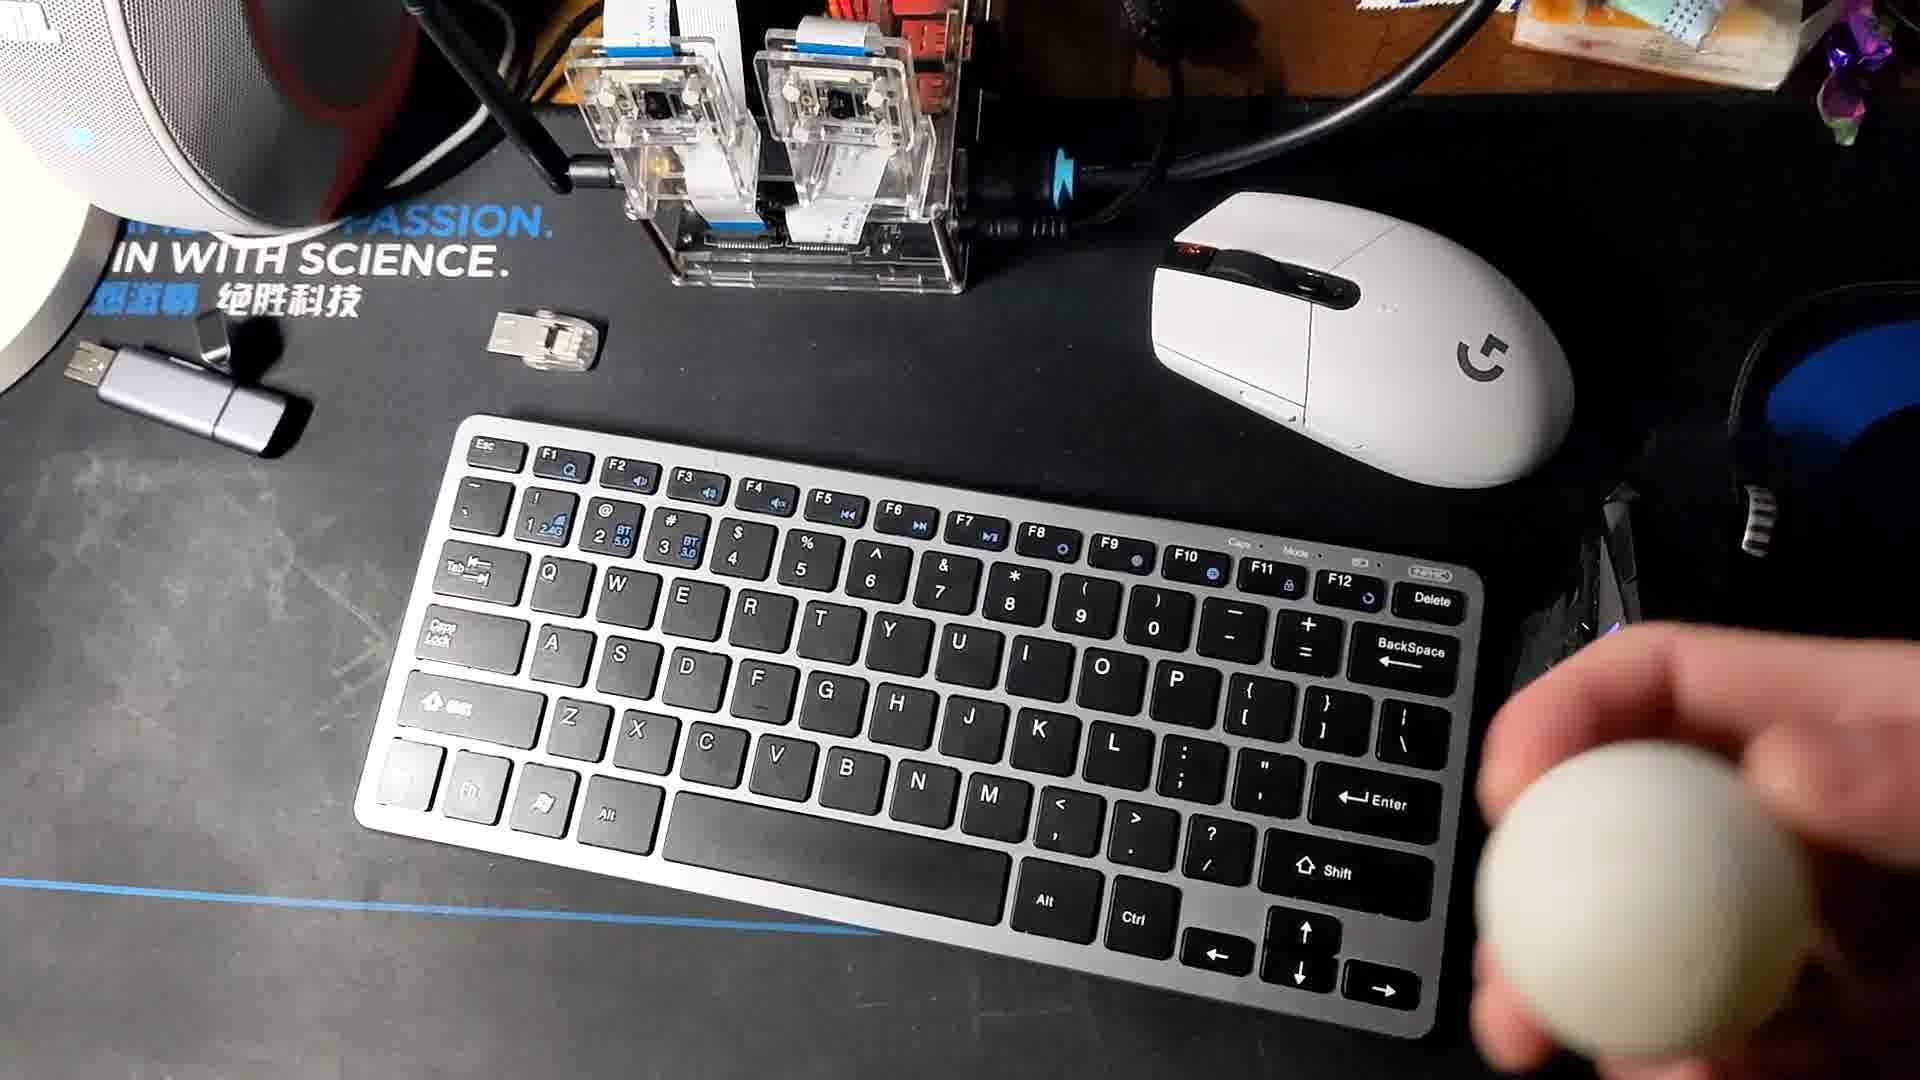Ball: (1480, 750, 1793, 1044)
